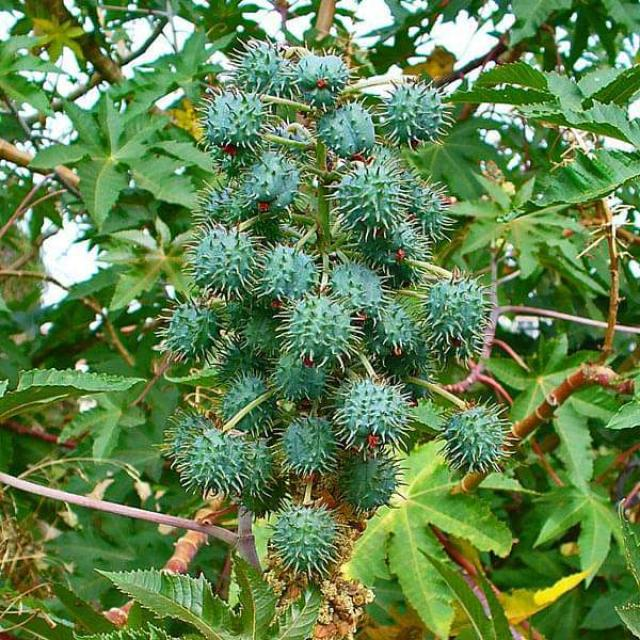Castor Oil Plant: (197, 16, 466, 640), (34, 303, 246, 582), (489, 289, 640, 640), (344, 420, 554, 640), (456, 7, 626, 241), (56, 47, 215, 251)
